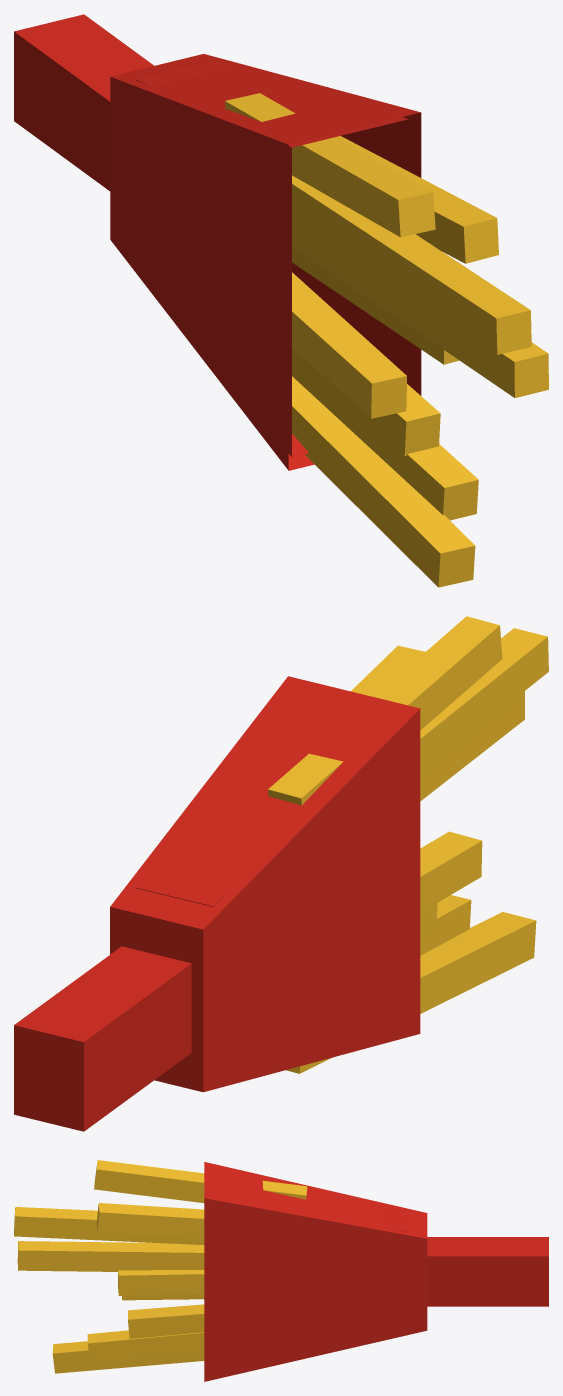
File: fries.glb
The picture shows the model from 3 angles, top to bottom: view 1: azimuth 30°, elevation 25°; view 2: azimuth 150°, elevation 25°; view 3: azimuth 270°, elevation 25°; orthographic projection. The views are drawn at different scales.
Parts seen in each view (by area): view 1: Fries; view 2: Fries; view 3: Fries.
Boxes of the visible parts, left/top/right/bottom form: Fries: left=14, top=14, right=548, bottom=587; Fries: left=14, top=616, right=548, bottom=1131; Fries: left=14, top=1160, right=548, bottom=1381.
Size of the model in its own units: 0.085 by 0.2215 by 0.5278.
1 material, 1 textured.
